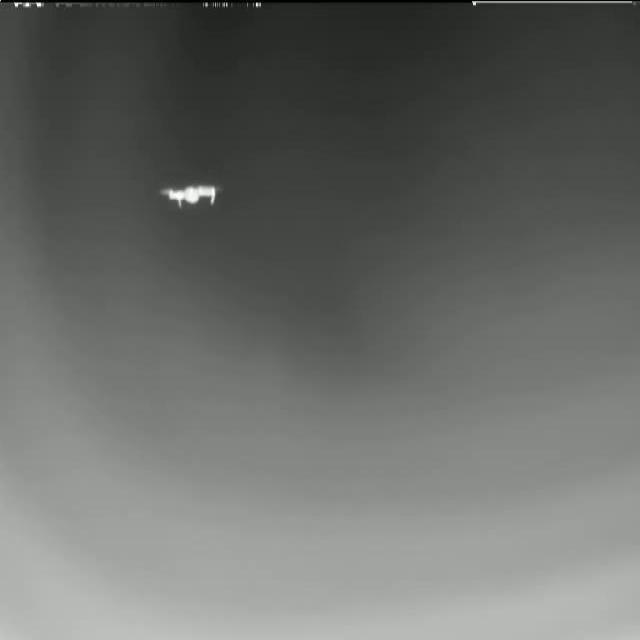DRONE: (158, 181, 220, 209)
